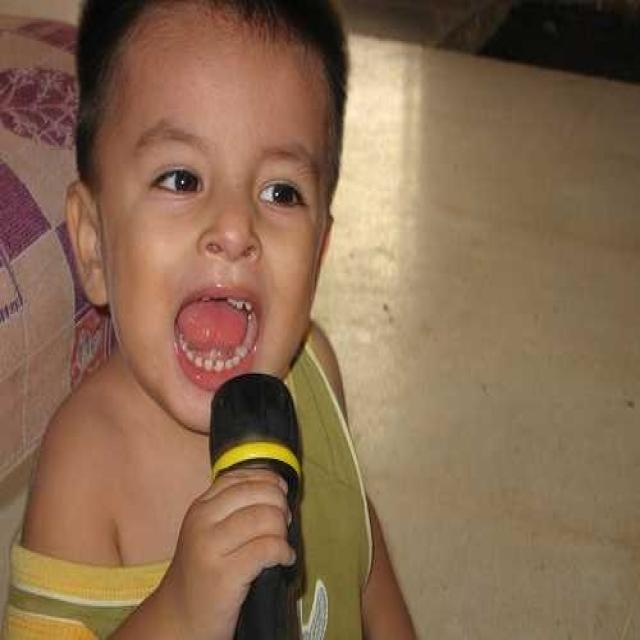microphone: (208, 369, 320, 640)
